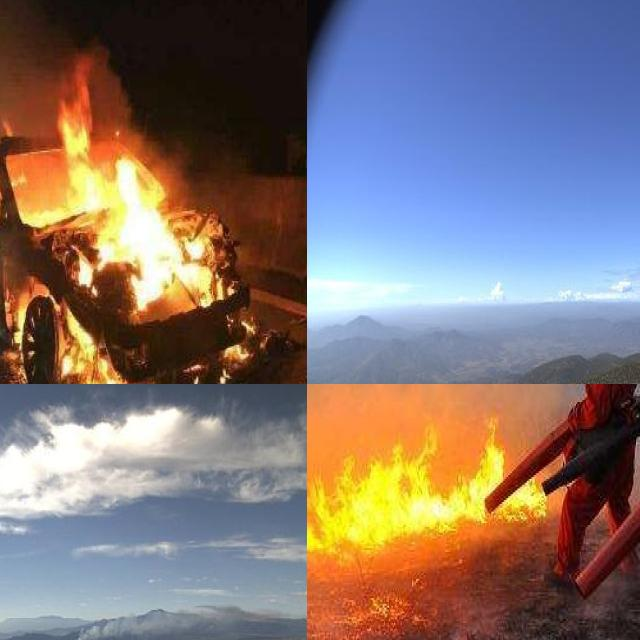fire: (0, 62, 252, 384), (307, 423, 546, 553)
smoke: (307, 384, 600, 451), (59, 592, 225, 640)
